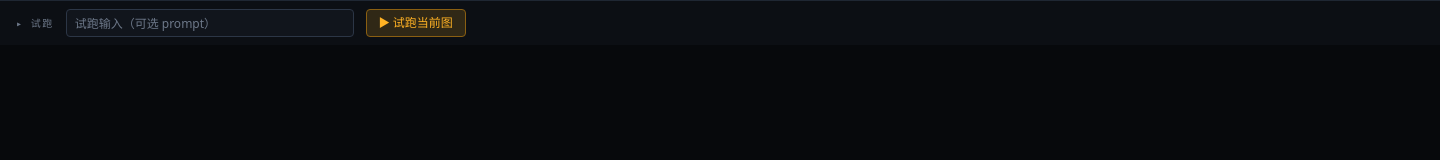
it: TrialRunPanel › shows a terminal empty state when a completed run has no output
Click the button "▶ 试跑当前图". click: [416, 23]
box: [366, 9, 466, 37]
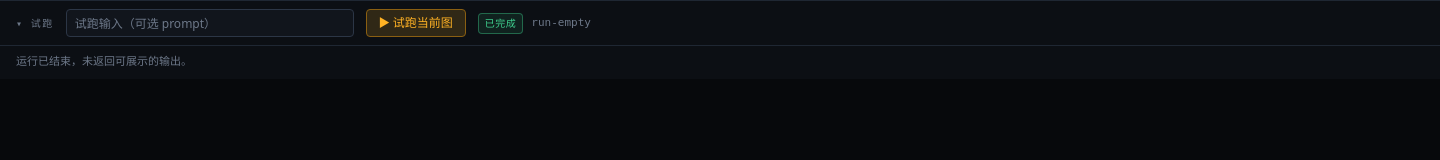
Now the text "运行已结束，未返回可展示的输出。" is shown, box [16, 55, 192, 68]
